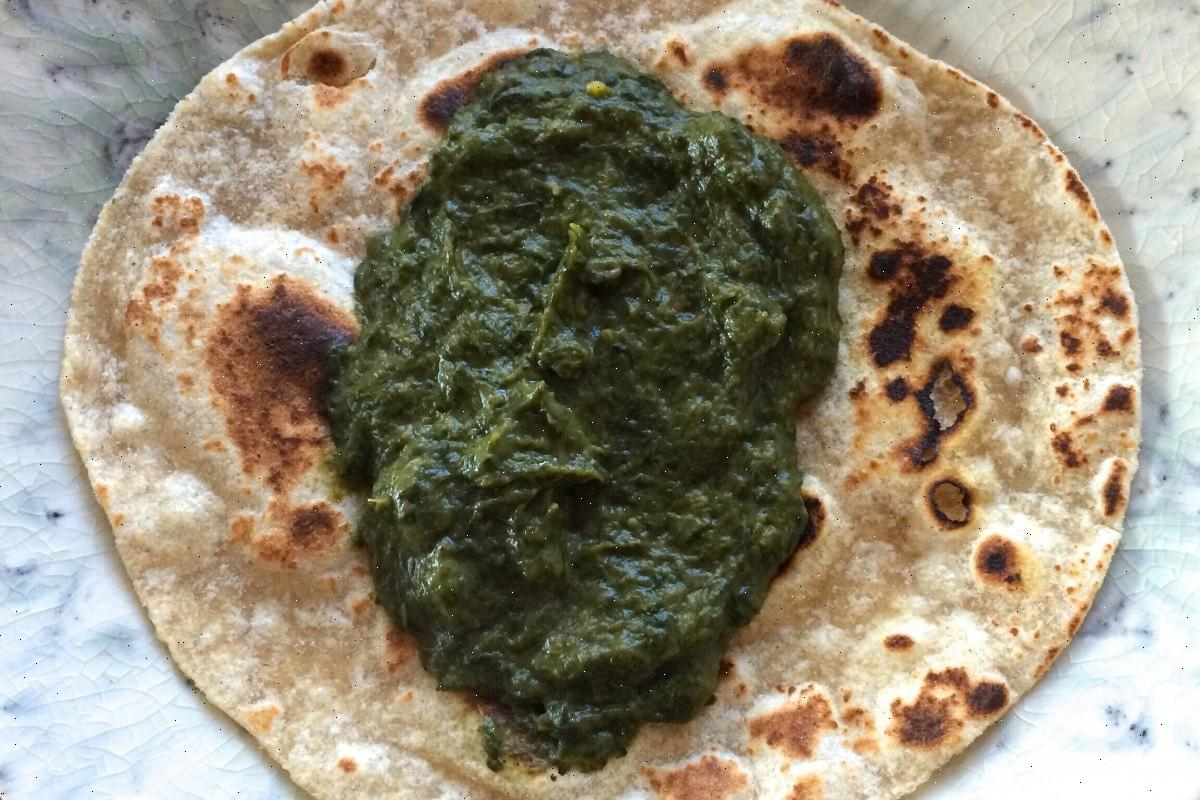saag: (441, 107, 760, 678)
